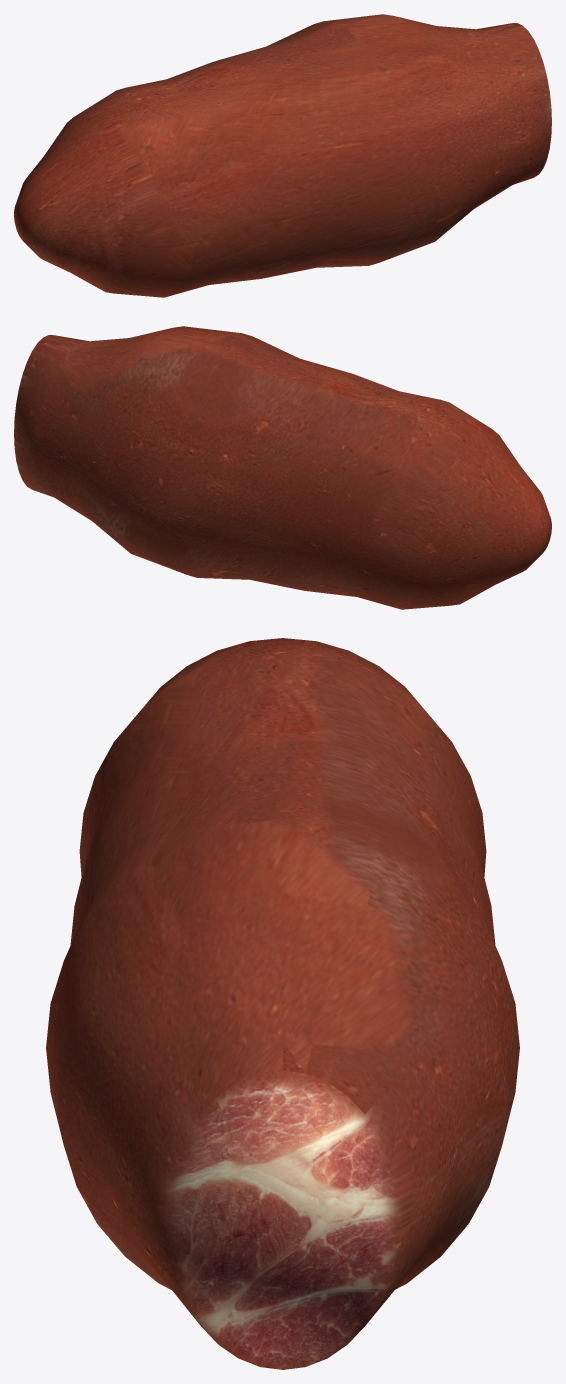
The model's file is pastırma tam.fbx.
3 views of the same model, one above another, from view 1: azimuth 30°, elevation 25°; view 2: azimuth 150°, elevation 25°; view 3: azimuth 270°, elevation 25° (orthographic). The views are drawn at different scales.
Visible parts, largest first — view 1: Sphere.005; view 2: Sphere.005; view 3: Sphere.005.
Part boxes in pixels (box(x1,y1,x2,y2)): Sphere.005: box(14, 14, 551, 297); Sphere.005: box(14, 326, 551, 609); Sphere.005: box(46, 638, 519, 1369).
Bounding box in the file's own units: 782 × 339 × 319.
1 material, 1 textured.
